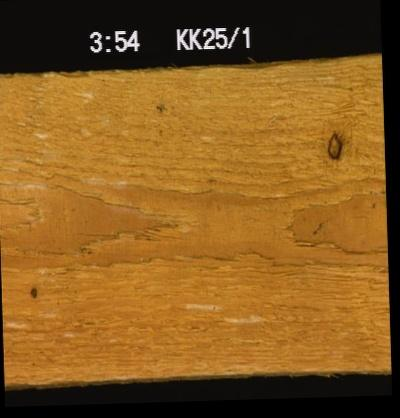dry_knot: (324, 129, 342, 161)
small_knot: (26, 284, 38, 299)
